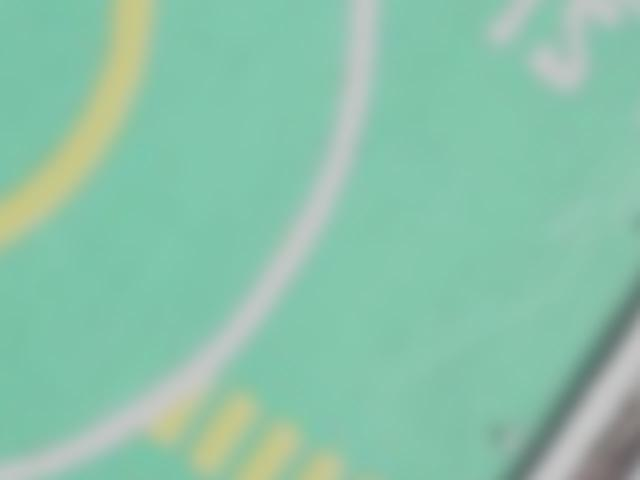Apron: (1, 1, 170, 271)
